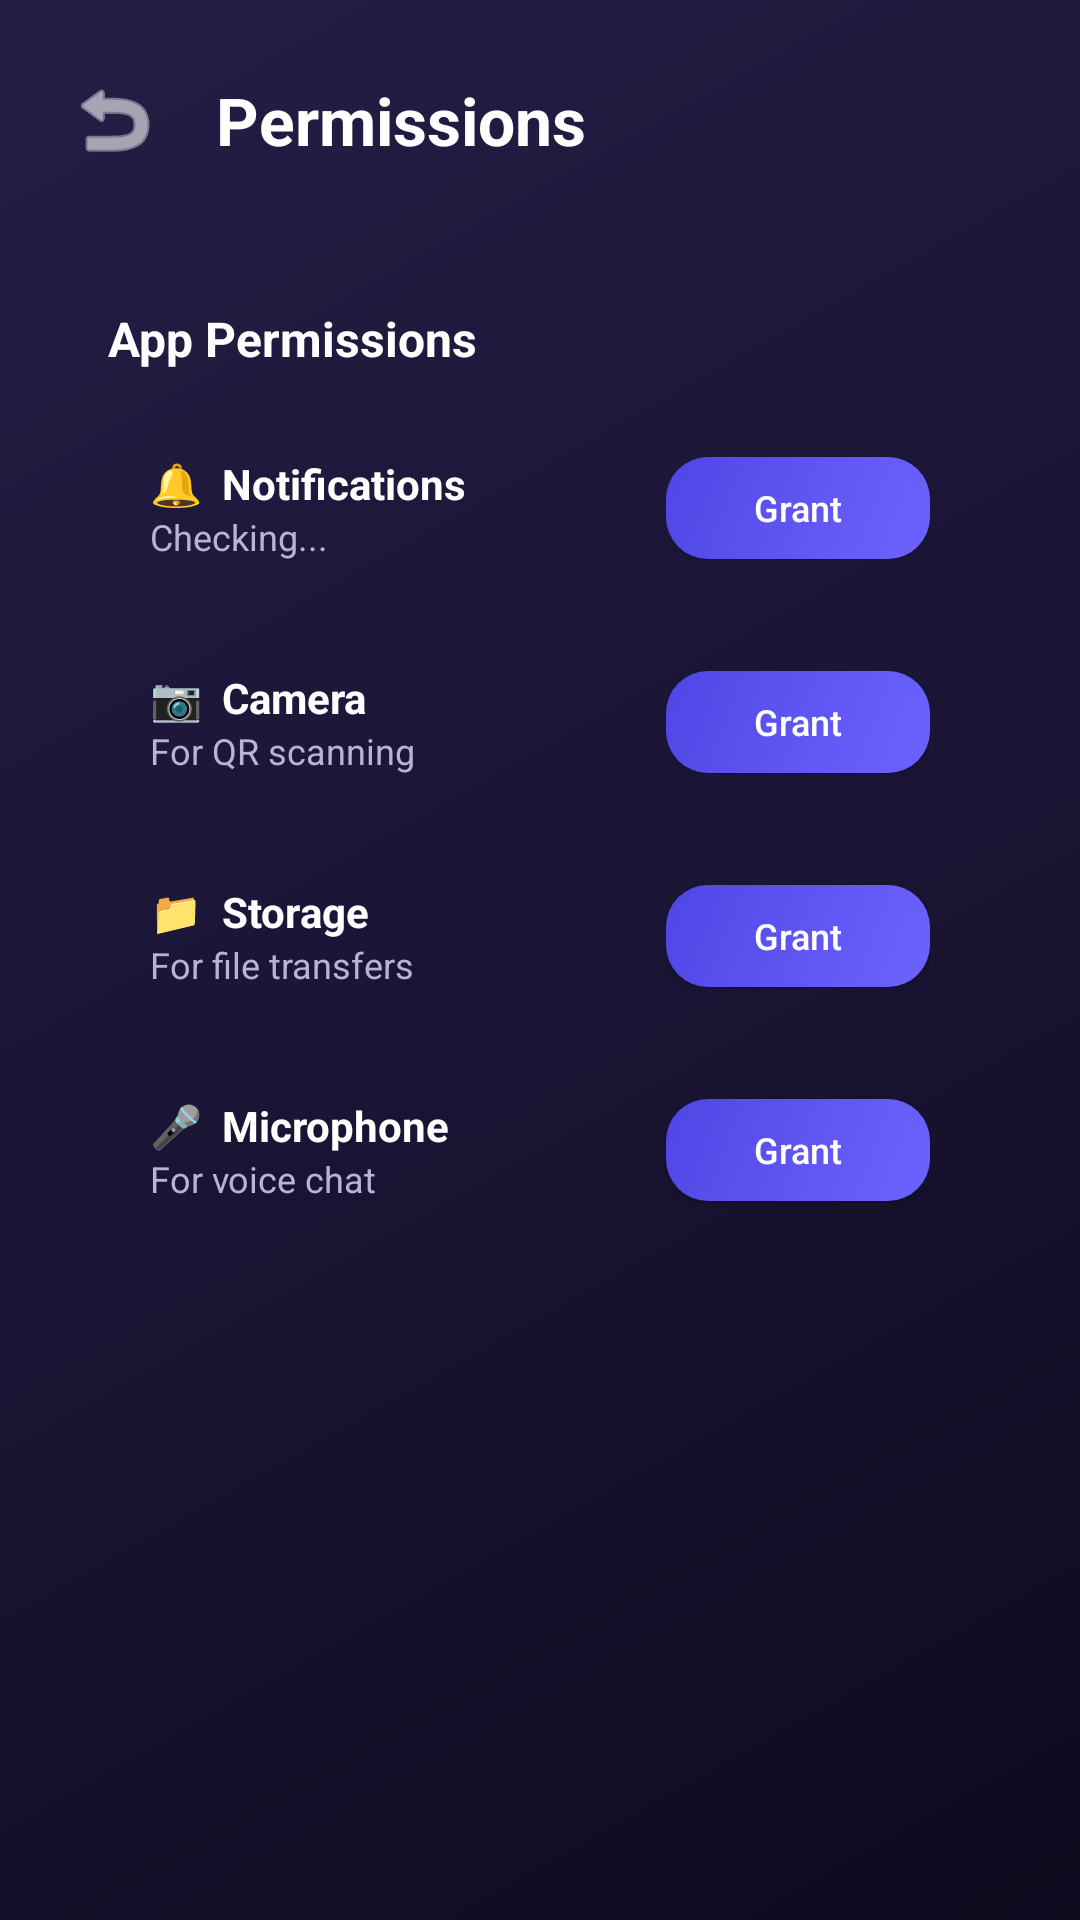

Screen size 1080px x 1920px. Icon name, then its box in pixels as (x1, y1, x2, y2):
Back: (81, 89, 150, 152)
